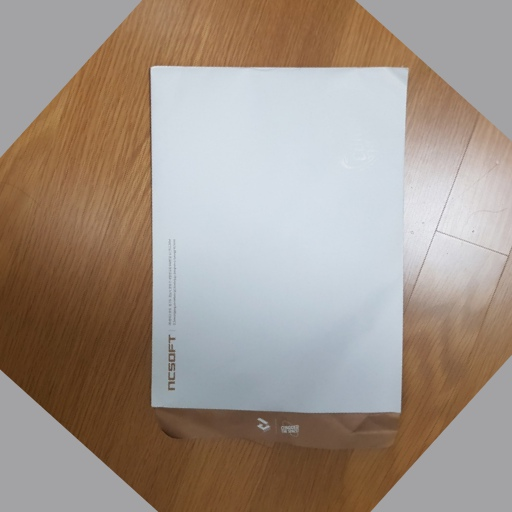Paper_2: (138, 57, 433, 470)
